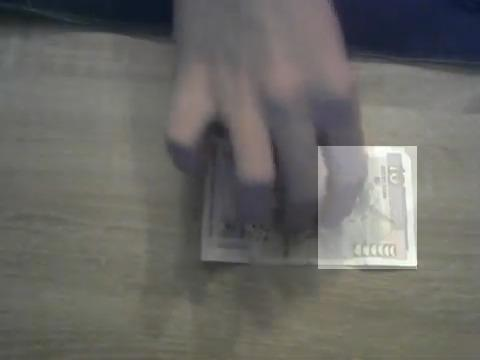10leva: (318, 146, 417, 269)
